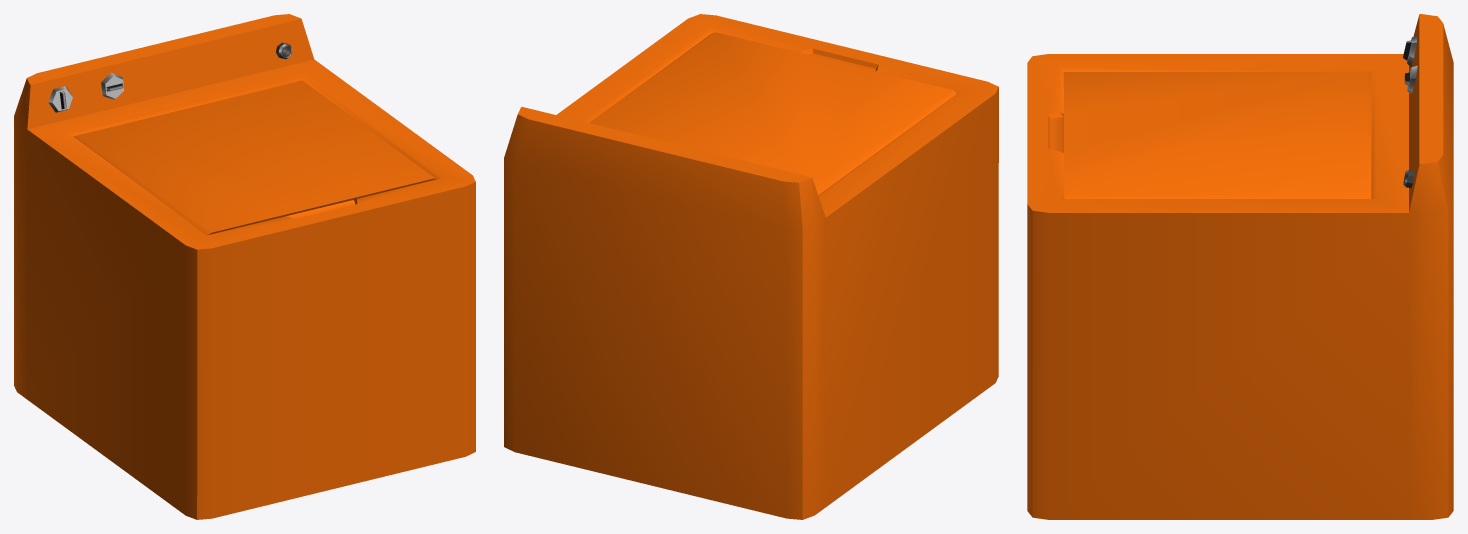
Rendered from Washer_05.FBX.
3 renders of one model, left to right at view 1: azimuth 30°, elevation 25°; view 2: azimuth 150°, elevation 25°; view 3: azimuth 270°, elevation 25°, orthographic. The views are drawn at different scales.
Visible parts, largest first — view 1: Washer; view 2: Washer; view 3: Washer.
Boxes of the visible parts, box(x1,y1,x2,y2) form: Washer: box(14, 14, 475, 519); Washer: box(504, 14, 998, 519); Washer: box(1027, 14, 1453, 519).
Size of the model in its own units: 150 by 155 by 170.
